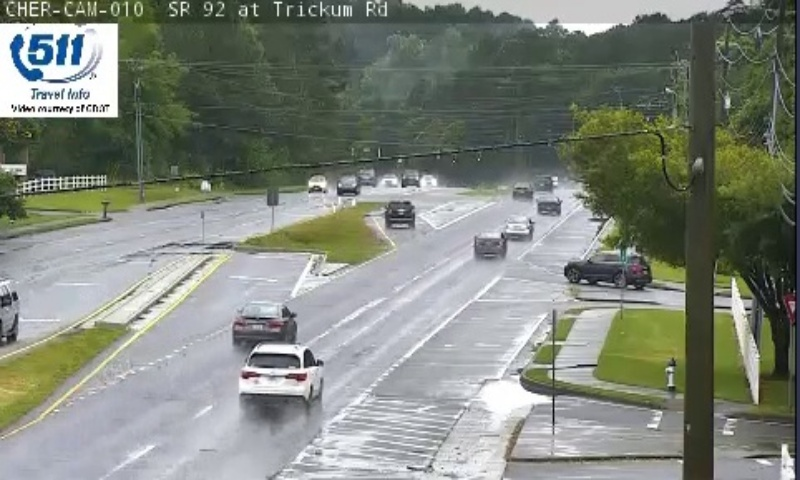car: (239, 342, 321, 400), (232, 301, 297, 348), (472, 230, 508, 258), (502, 214, 531, 241), (384, 200, 415, 225), (536, 193, 559, 214)
